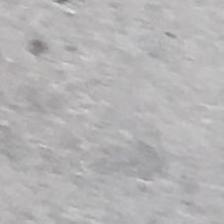Non_Crack: (5, 1, 224, 224)
